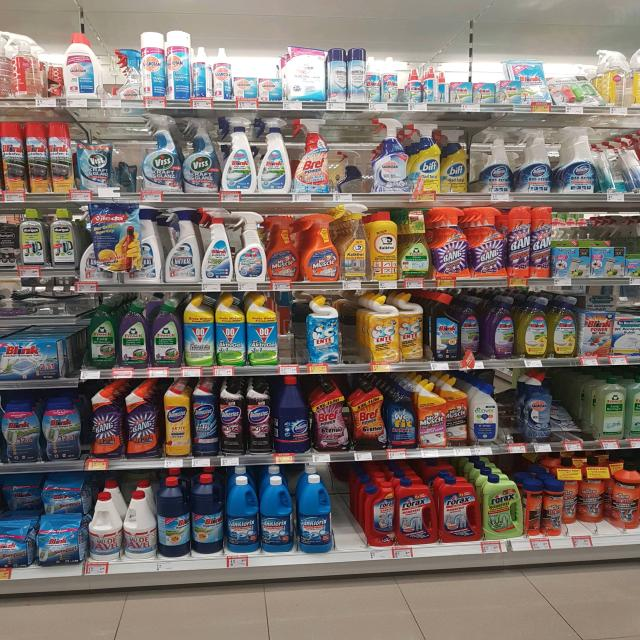unorganised: (157, 476, 192, 562), (440, 123, 473, 194), (266, 211, 298, 281), (398, 296, 424, 362), (583, 457, 607, 528), (459, 296, 485, 358), (336, 145, 366, 193), (493, 296, 516, 357), (446, 382, 467, 446), (564, 459, 582, 531), (525, 482, 544, 535), (422, 65, 436, 102), (438, 70, 447, 103)
